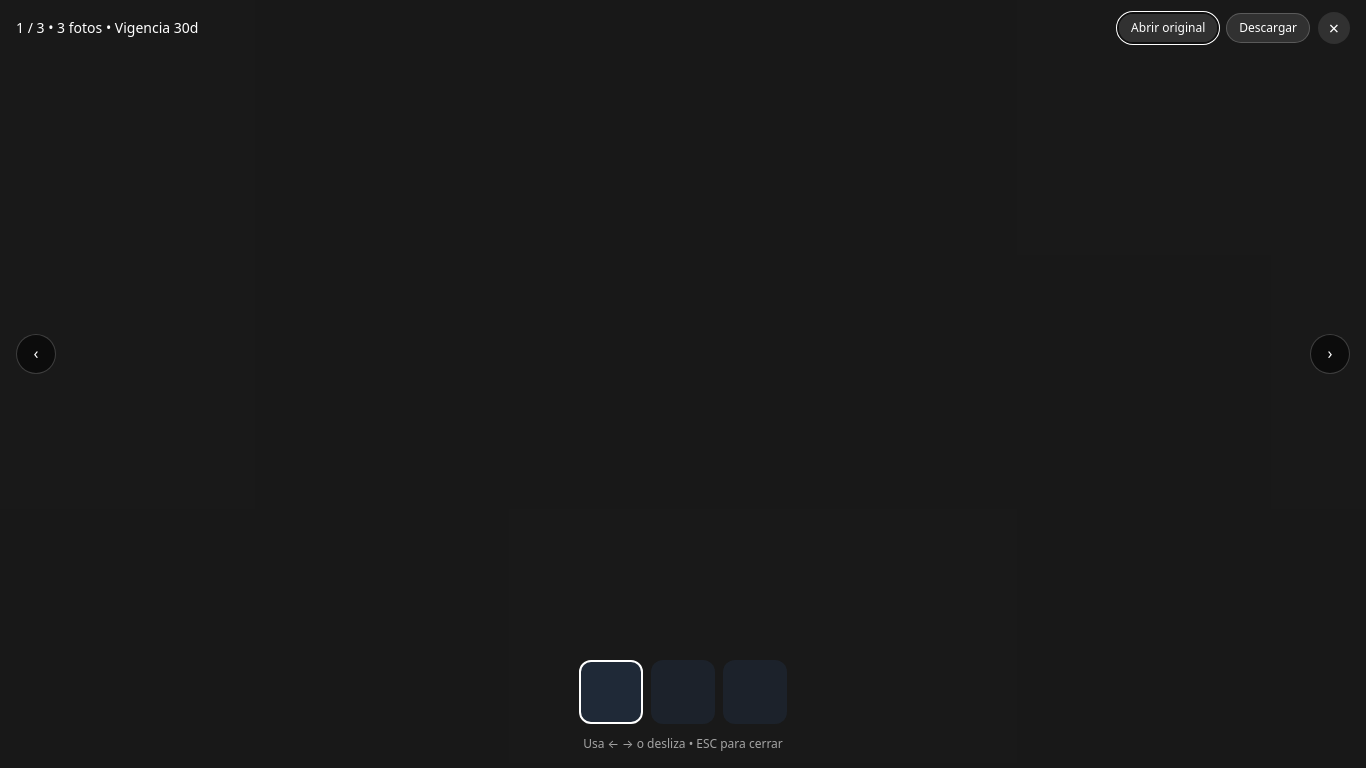
VisorFotos (lightbox) › Anterior retrocede y envuelve de la primera a la última
Click the button named "Anterior": (36, 354) [16,334,56,374]
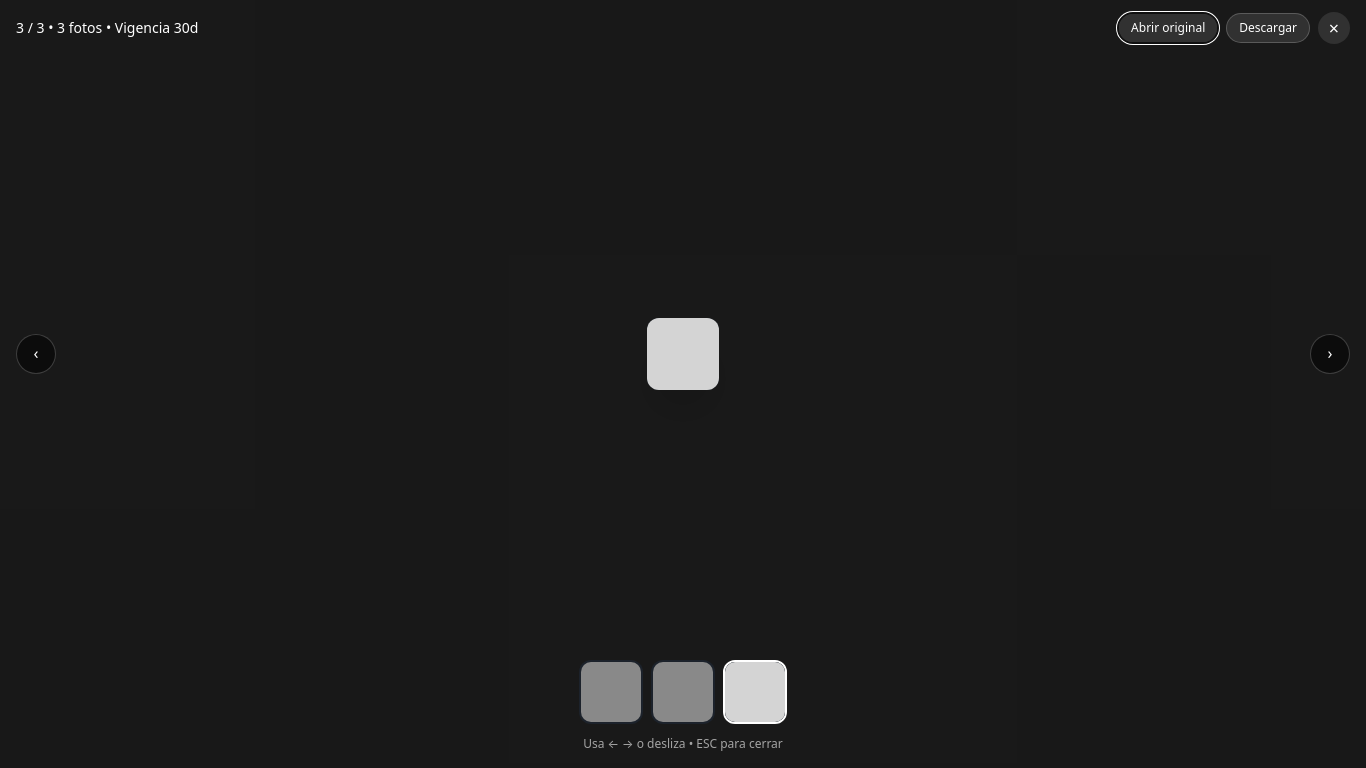
Expected: the text "3 / 3 • 3 fotos • Vigencia 30d" is shown, [16,18,198,38]
